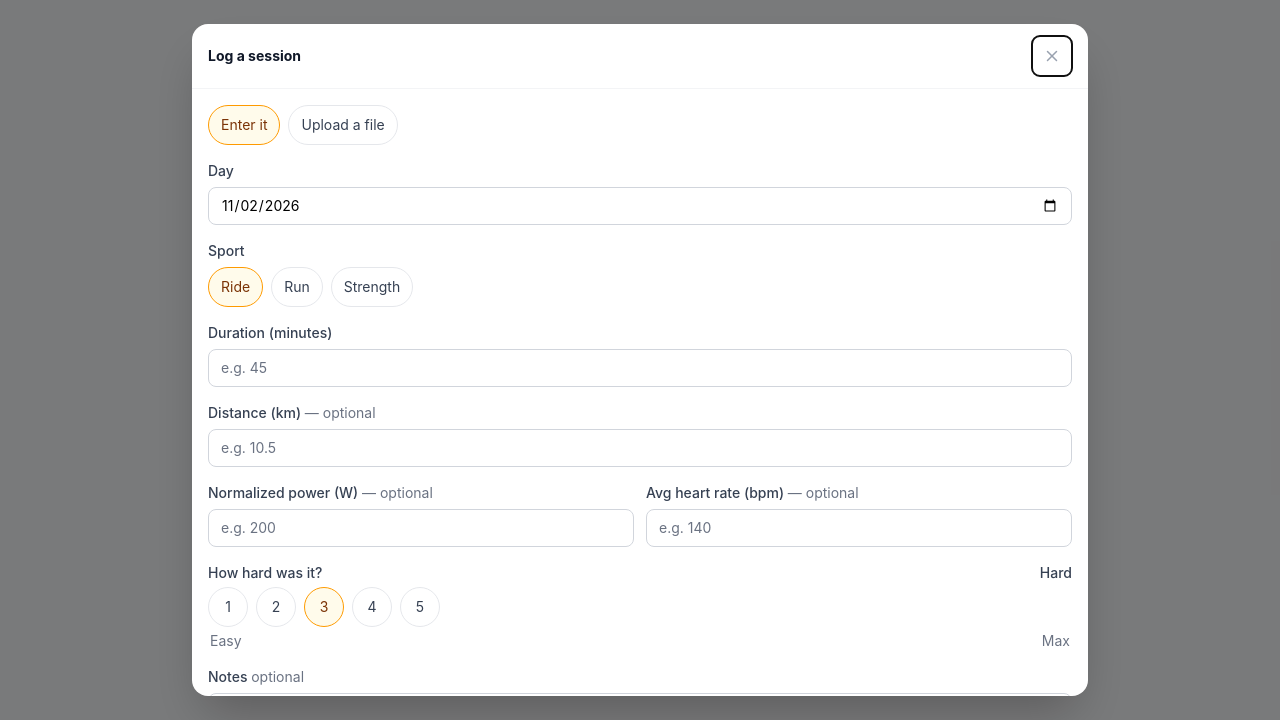
Scenario: LogSessionDialog: an entry of its own (ai-trainer-ops#47) › falls back to a generic message for a non-Error failure
Type "30" into the number field labelled "Duration (minutes)".
click(640, 368); type("30")  # box x1=208 y1=349 x2=1072 y2=387
(page scrolled)
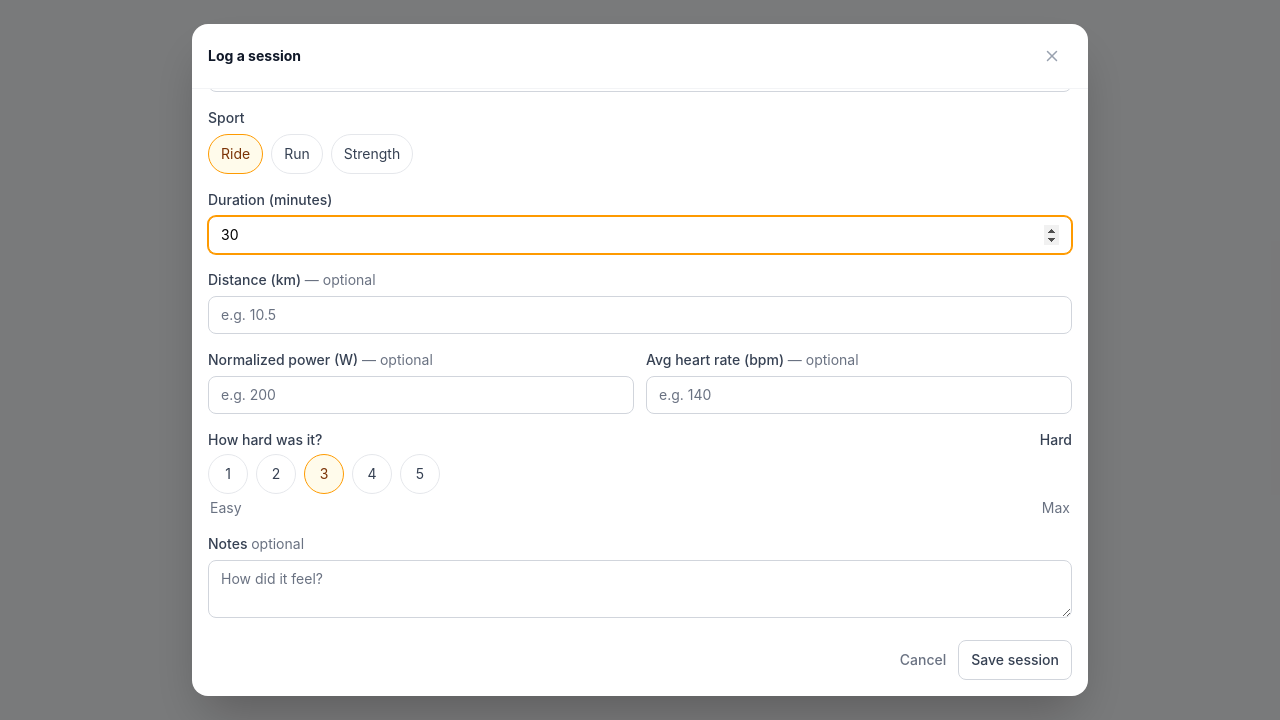
Click the button "Save session".
click(1015, 660)  # box x1=958 y1=640 x2=1072 y2=680
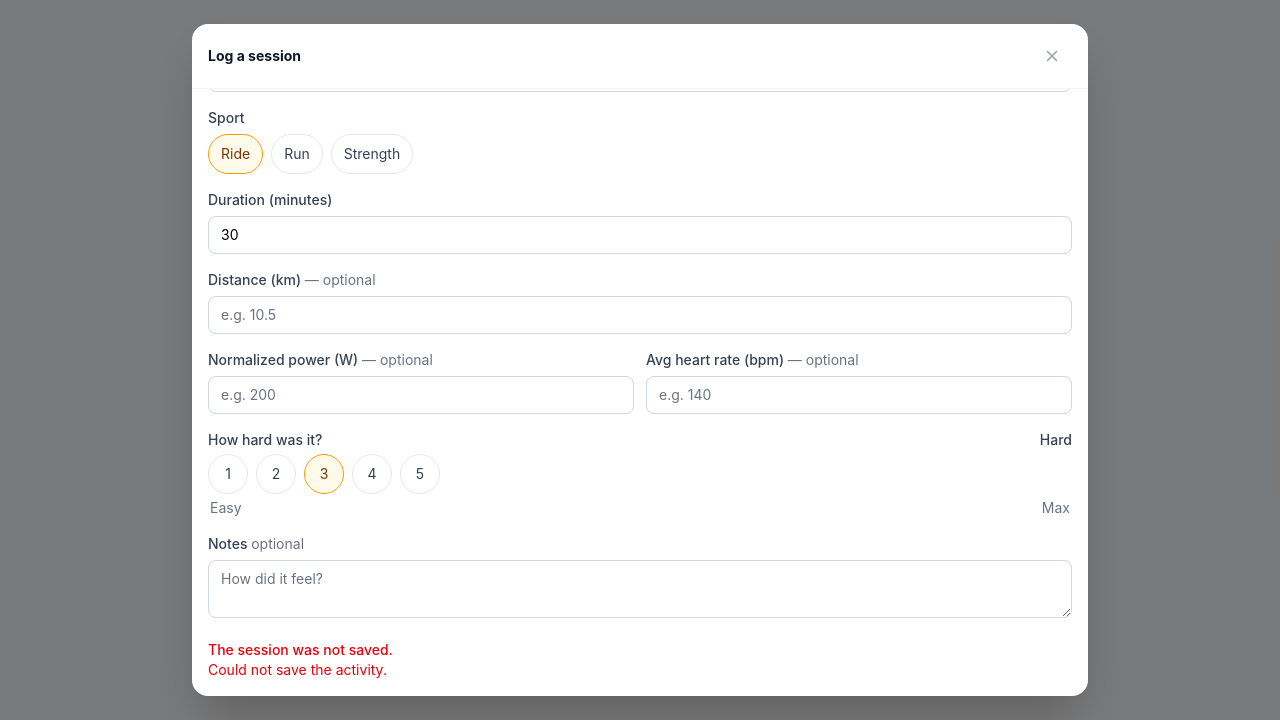
Expected: the message shows "Could not save the activity.", x1=208 y1=661 x2=387 y2=678
